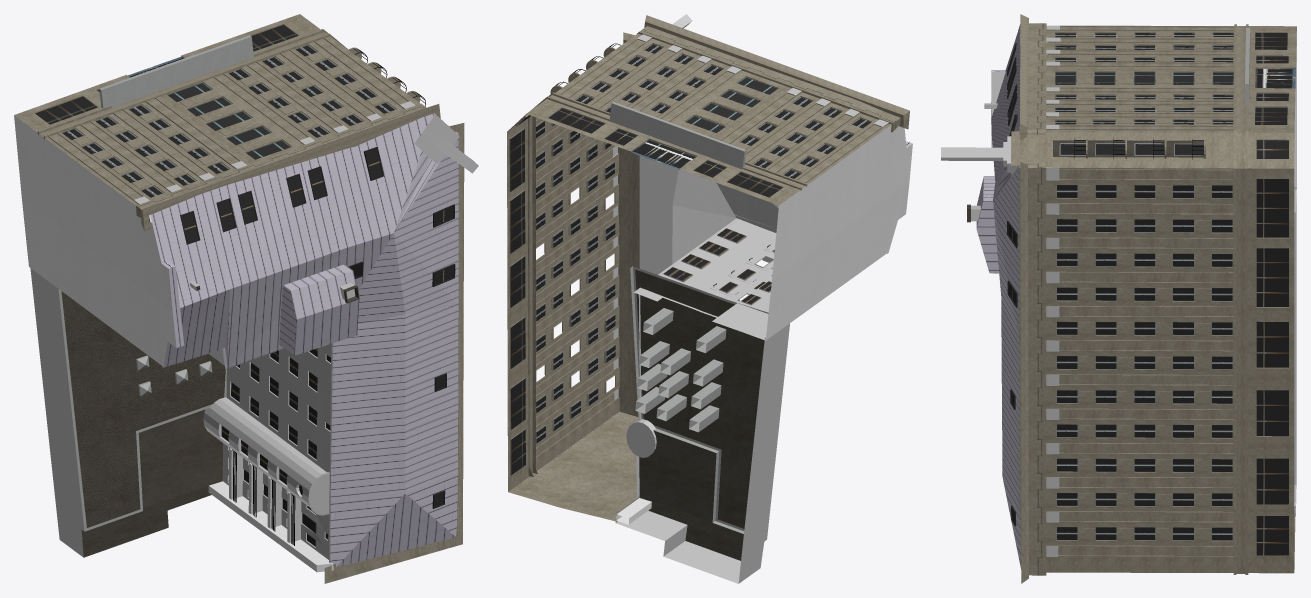
The model's file is Vabaduse_3.obj.
3 views of the same model, side by side, from view 1: azimuth 30°, elevation 25°; view 2: azimuth 150°, elevation 25°; view 3: azimuth 270°, elevation 25° (orthographic). The views are drawn at different scales.
Parts seen in each view (by area): view 1: Vabaduse; view 2: Vabaduse; view 3: Vabaduse.
Part boxes in pixels (box(x1,y1,x2,y2)): Vabaduse: box(14, 14, 478, 583); Vabaduse: box(507, 14, 912, 583); Vabaduse: box(941, 14, 1296, 583).
Size of the model in its own units: 31.2 by 44.64 by 29.84.
